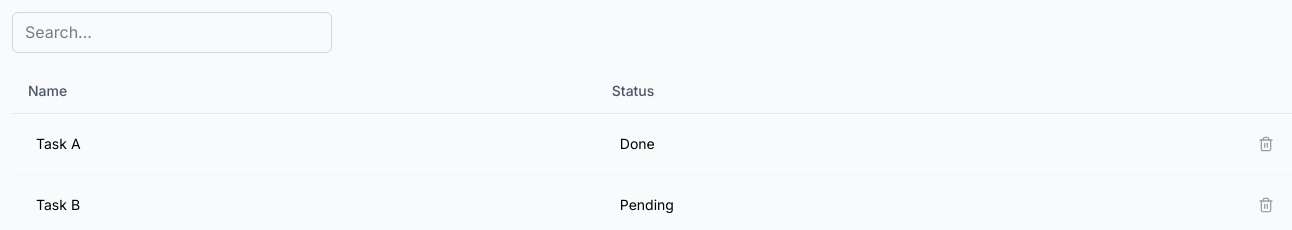
Test: DataTable › filters rows based on search
The image size is (1292, 230).
Type "Task B" into the field with placeholder "Search..." at (172, 32), box [12, 12, 332, 53]
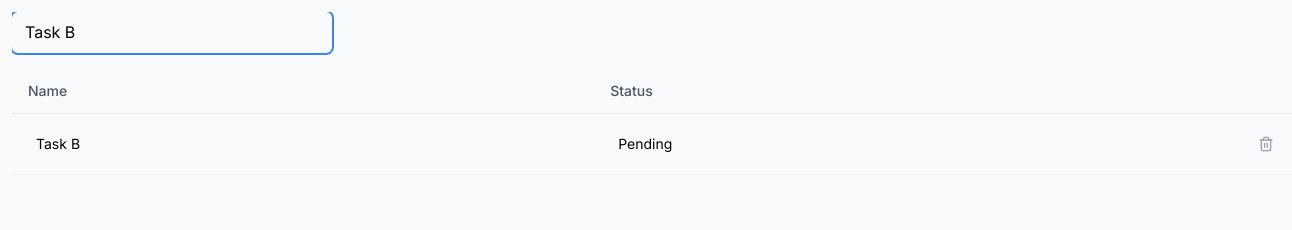
Expected: the text "Task B" is shown, [36, 135, 80, 152]
Now the text "Task A" is gone
